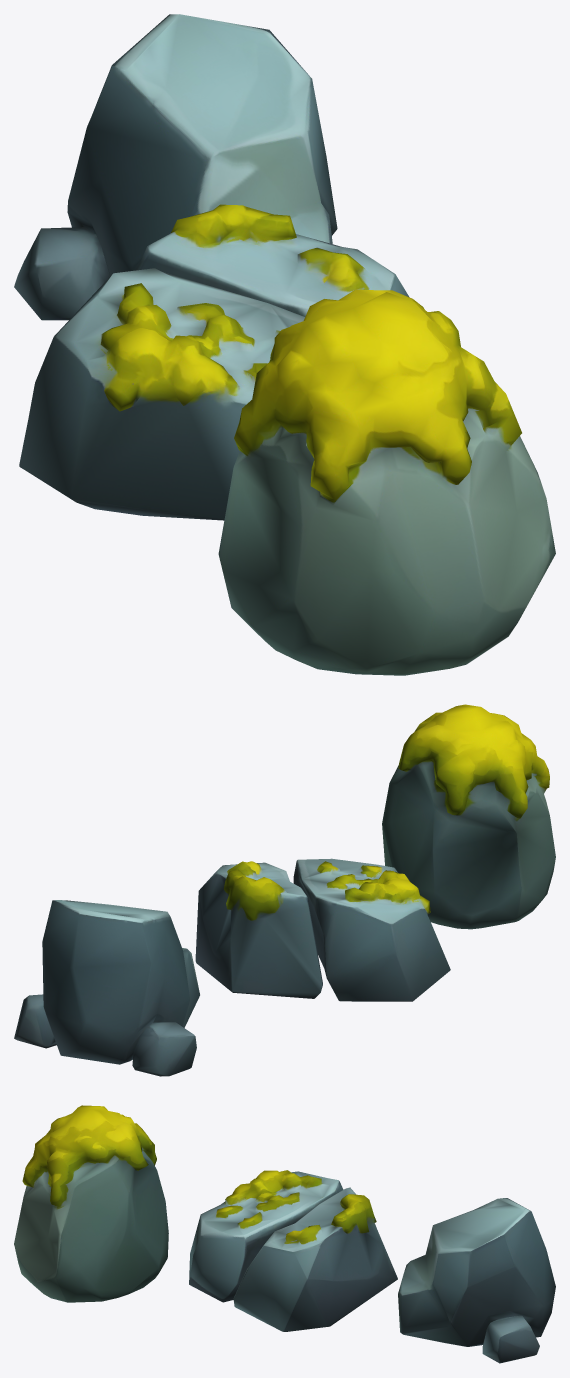
3 views of the same model, one above another, from view 1: azimuth 30°, elevation 25°; view 2: azimuth 150°, elevation 25°; view 3: azimuth 270°, elevation 25° (orthographic). The views are drawn at different scales.
Parts seen in each view (by area): view 1: tripo_node_8a197b89-2675-4bc3-a9a8-f680acc1ea81; view 2: tripo_node_8a197b89-2675-4bc3-a9a8-f680acc1ea81; view 3: tripo_node_8a197b89-2675-4bc3-a9a8-f680acc1ea81.
Boxes of the visible parts, x1,y1,x2,y2 form: tripo_node_8a197b89-2675-4bc3-a9a8-f680acc1ea81: (14, 14, 555, 675); tripo_node_8a197b89-2675-4bc3-a9a8-f680acc1ea81: (14, 704, 555, 1076); tripo_node_8a197b89-2675-4bc3-a9a8-f680acc1ea81: (14, 1105, 555, 1363).
Bounding box in the file's own units: 0.5264 × 0.3425 × 1.
1 material, 1 textured.
